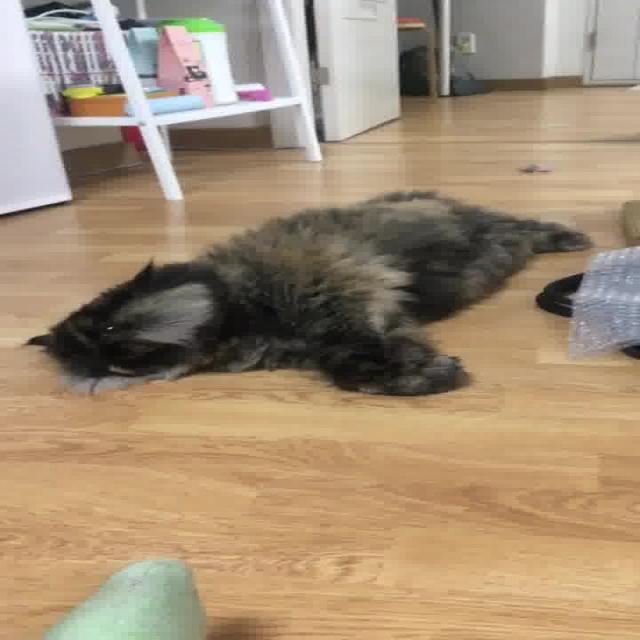cat: (18, 165, 604, 408)
